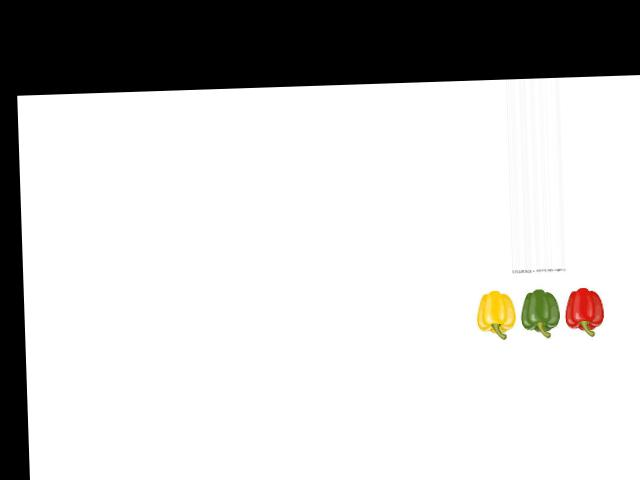bell_pepper: (473, 286, 518, 339)
